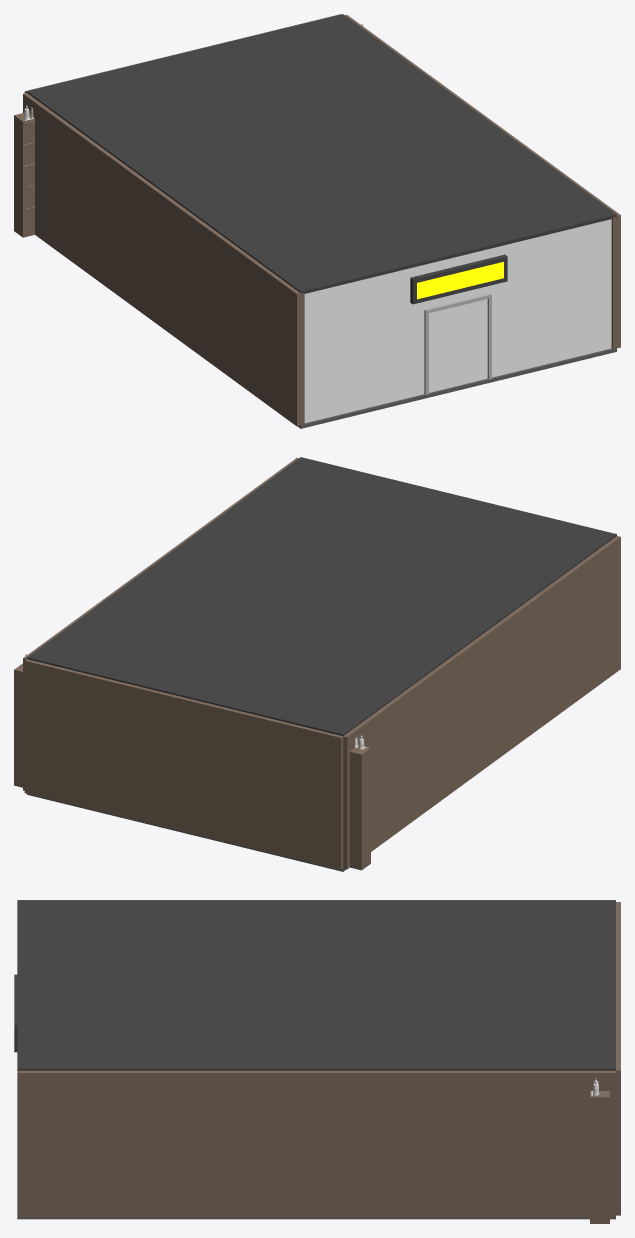
Rendered from liquor-store.gltf.
The picture shows the model from 3 angles, top to bottom: view 1: azimuth 30°, elevation 25°; view 2: azimuth 150°, elevation 25°; view 3: azimuth 270°, elevation 25°; orthographic projection. The views are drawn at different scales.
Bounding box in the file's own units: 22 × 8.3 × 30.41.
